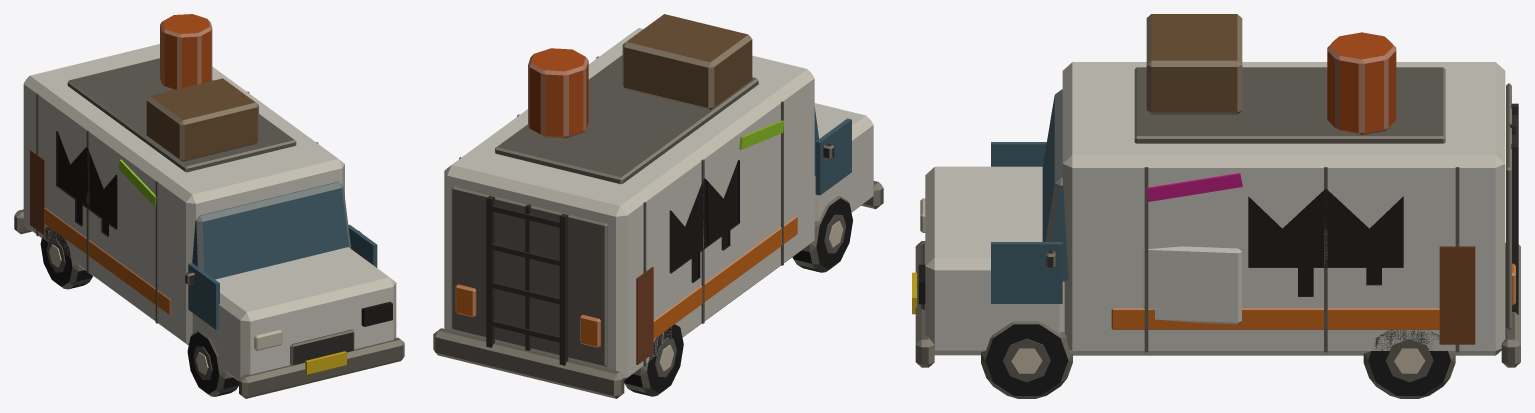
Rendered from c_car_van_chunks.glb.
The picture shows the model from 3 angles, left to right: view 1: azimuth 30°, elevation 25°; view 2: azimuth 150°, elevation 25°; view 3: azimuth 270°, elevation 25°; orthographic projection. The views are drawn at different scales.
Visible parts, largest first — view 1: chunk_3, chunk_2, chunk_0, chunk_1, chunk_5, chunk_4; view 2: chunk_2, chunk_5, chunk_1, chunk_0, chunk_4, chunk_3; view 3: chunk_4, chunk_5, chunk_3, chunk_2, chunk_0, chunk_1.
Part boxes in pixels (x1,y1,x2,y2): chunk_3: [172, 103, 404, 393]; chunk_2: [14, 57, 141, 289]; chunk_0: [149, 154, 266, 398]; chunk_1: [87, 96, 176, 330]; chunk_5: [107, 14, 249, 107]; chunk_4: [142, 78, 318, 159]; chunk_2: [473, 131, 708, 398]; chunk_5: [433, 48, 642, 364]; chunk_1: [643, 57, 788, 320]; chunk_0: [747, 67, 883, 272]; chunk_4: [588, 14, 746, 130]; chunk_3: [616, 15, 869, 137]; chunk_4: [1086, 14, 1323, 355]; chunk_5: [1316, 32, 1520, 398]; chunk_3: [912, 14, 1170, 398]; chunk_2: [1323, 62, 1520, 321]; chunk_0: [915, 62, 1146, 255]; chunk_1: [1232, 14, 1323, 84].
Size of the model in its own units: 2.2 by 3 by 5.09.
